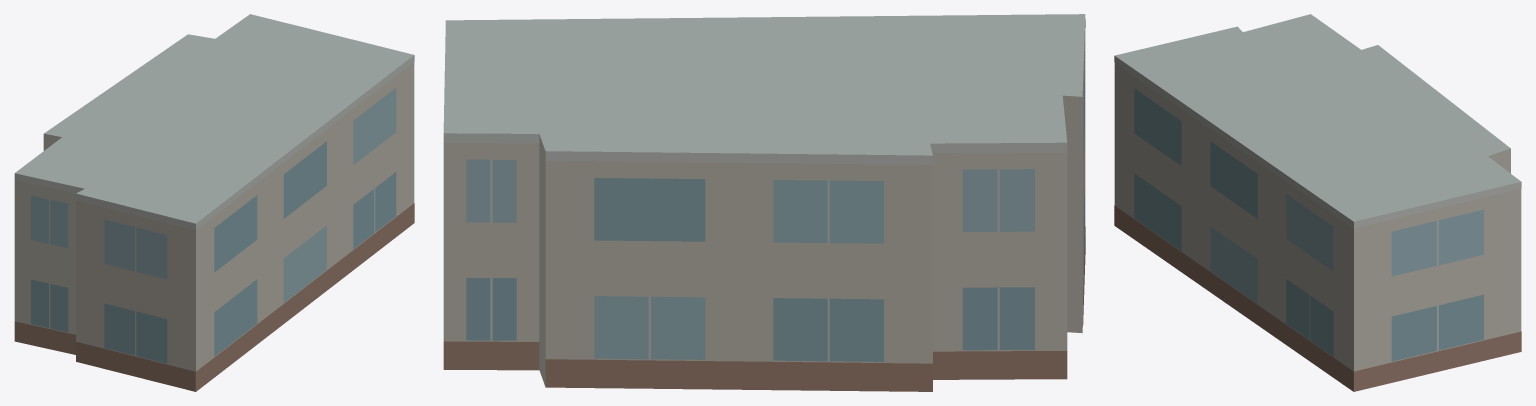
File: survey-upis-32585252.glb
The picture shows the model from 3 angles, left to right: view 1: azimuth 30°, elevation 25°; view 2: azimuth 150°, elevation 25°; view 3: azimuth 270°, elevation 25°; orthographic projection. The views are drawn at different scales.
Parts seen in each view (by area): view 1: survey-upis-32585252.tmp; view 2: survey-upis-32585252.tmp; view 3: survey-upis-32585252.tmp.
Boxes of the visible parts, bbox=[...] form: survey-upis-32585252.tmp: bbox=[14, 14, 414, 391]; survey-upis-32585252.tmp: bbox=[443, 14, 1085, 391]; survey-upis-32585252.tmp: bbox=[1114, 14, 1521, 391].
Bounding box in the file's own units: 15.99 × 6.1 × 13.24.
